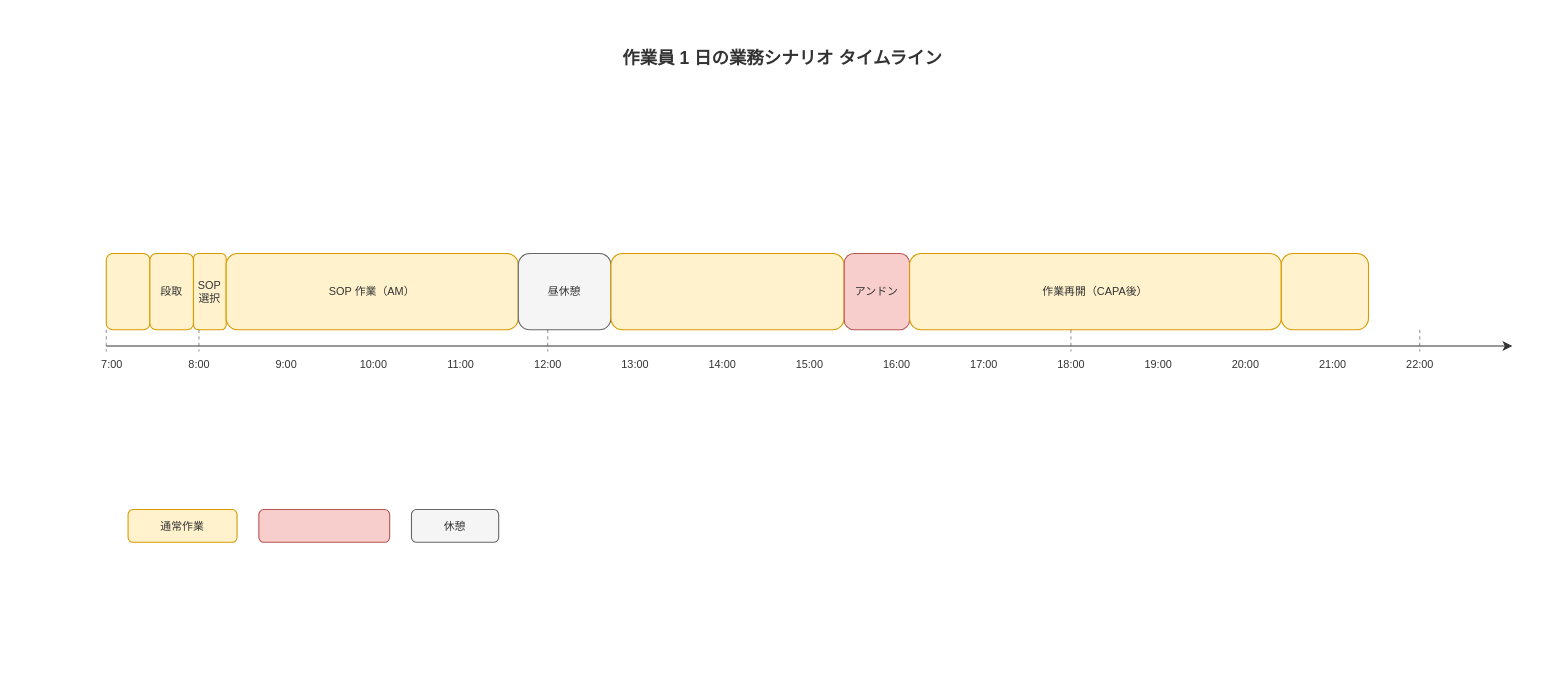
Some shapes in this 1563 by 691 pixel diagram are drawn without their labels. The box of each missing label's shape, as (x1, y1, x2, y2) in pixels:
SOP 作業（PM）: (610, 252, 844, 330)
アンドン/異常: (258, 508, 390, 542)
朝礼: (105, 252, 150, 330)
終業報告: (1280, 252, 1368, 330)
